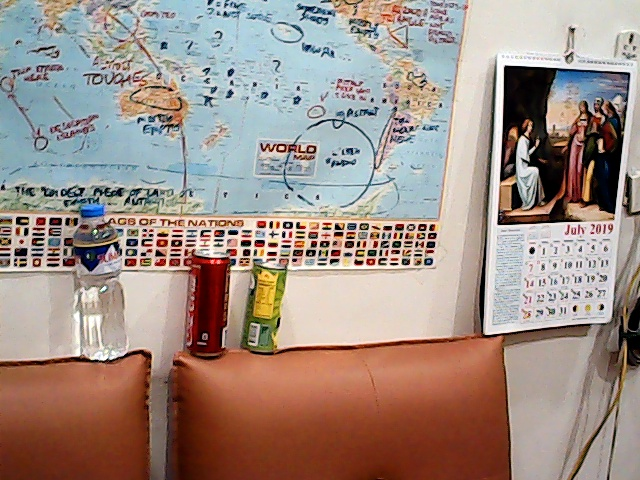Cola: (182, 243, 227, 363)
Pine Juice: (242, 254, 289, 357)
Summit Water: (66, 202, 127, 363)
